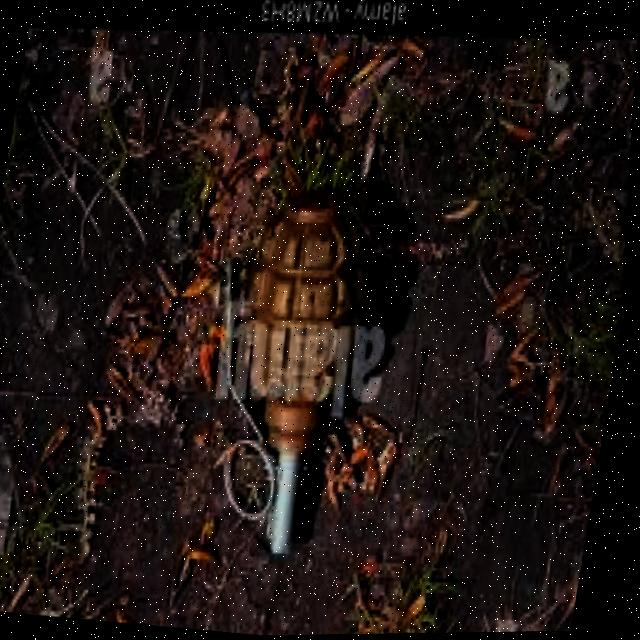grenade: (190, 168, 428, 576)
